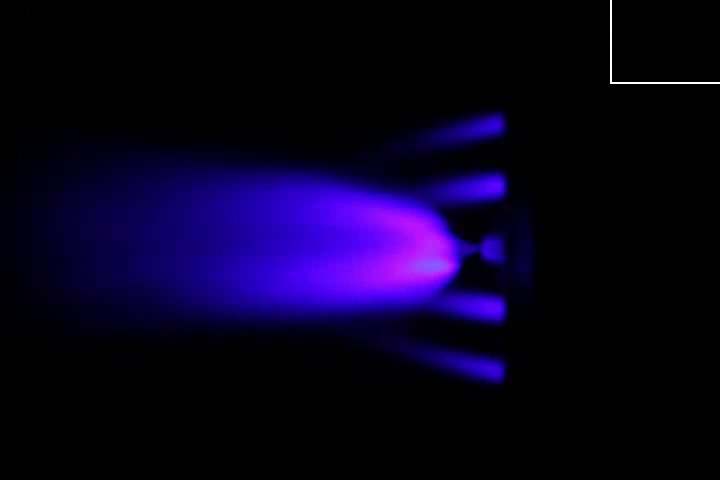burner cap: (482, 232, 505, 261)
pilot flame: (391, 341, 506, 384), (415, 110, 507, 148), (409, 291, 511, 325), (415, 169, 511, 204)
unstable: (308, 185, 481, 309)
